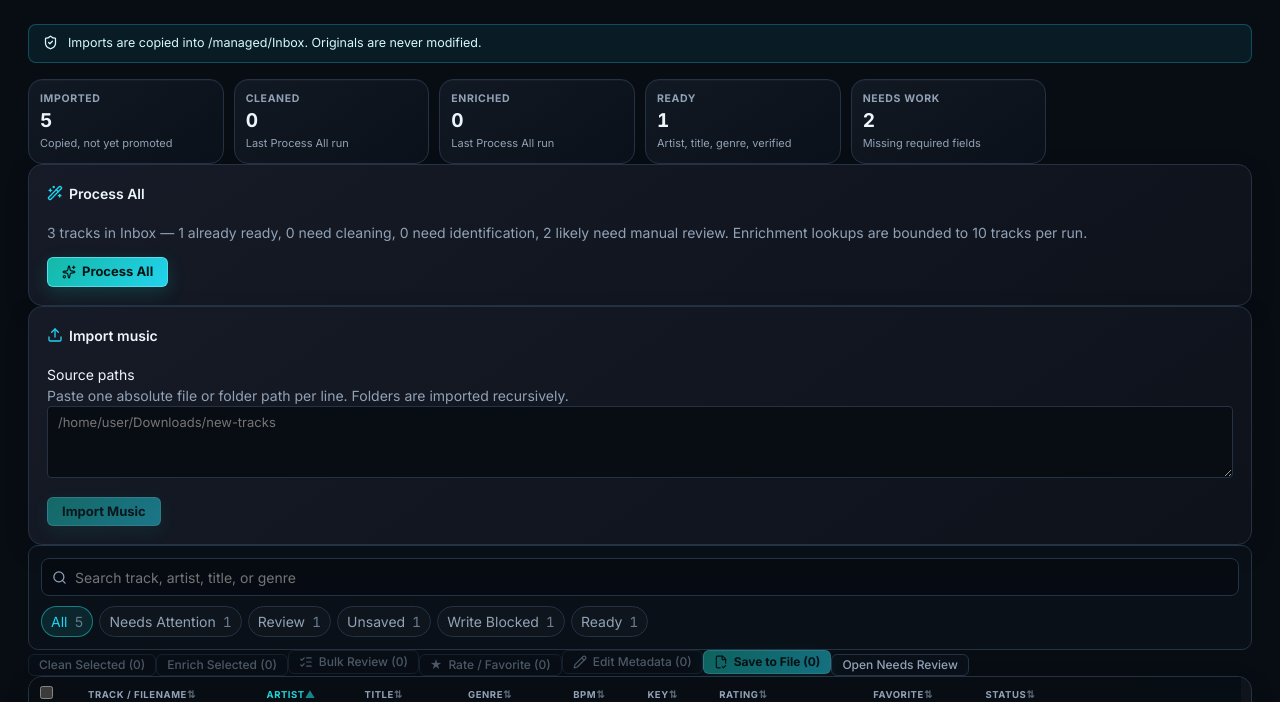
Test case: Inbox filtering, selection, and inspector › labels Select Visible semantics and clears the exact selected IDs
Click the checkbox named "Select visible page (3 tracks)" at coordinates (46, 693), box [40,686,53,699]
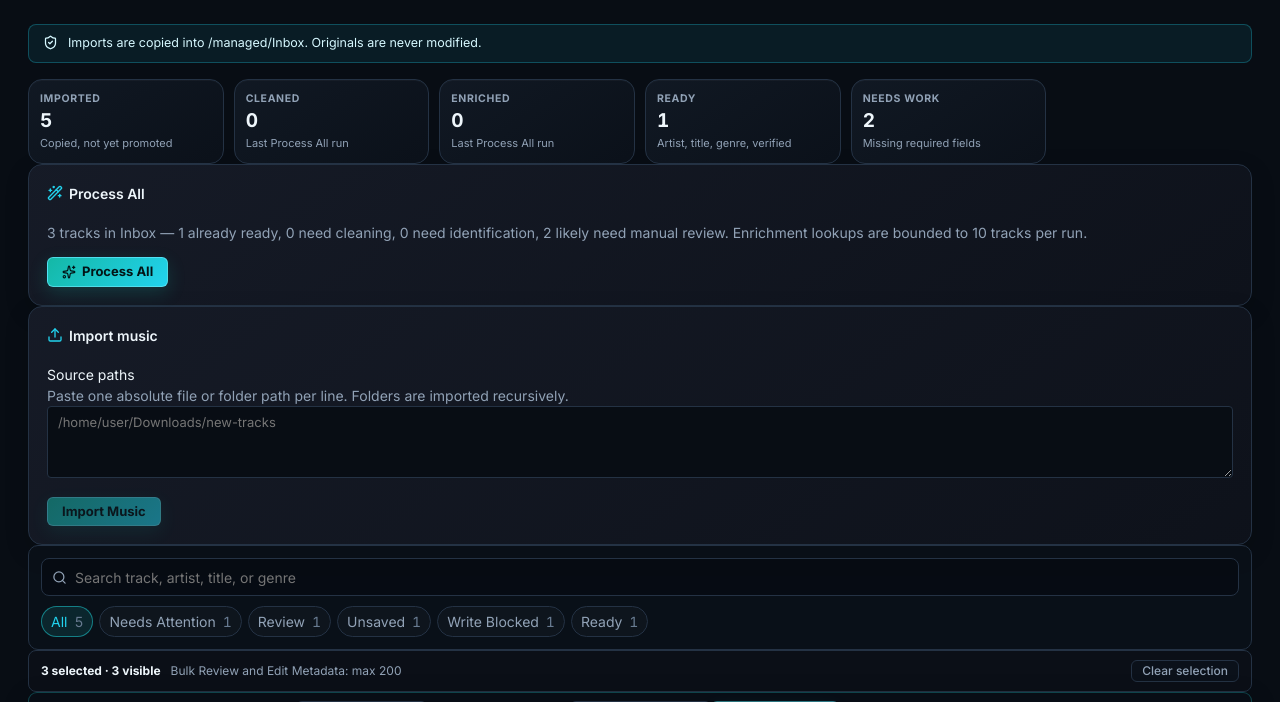
Check: the text "3 selected · 3 visible" is shown, box [41,662,161,680]
Click the button "Clear selection" at coordinates (1185, 671), box [1131,660,1239,682]
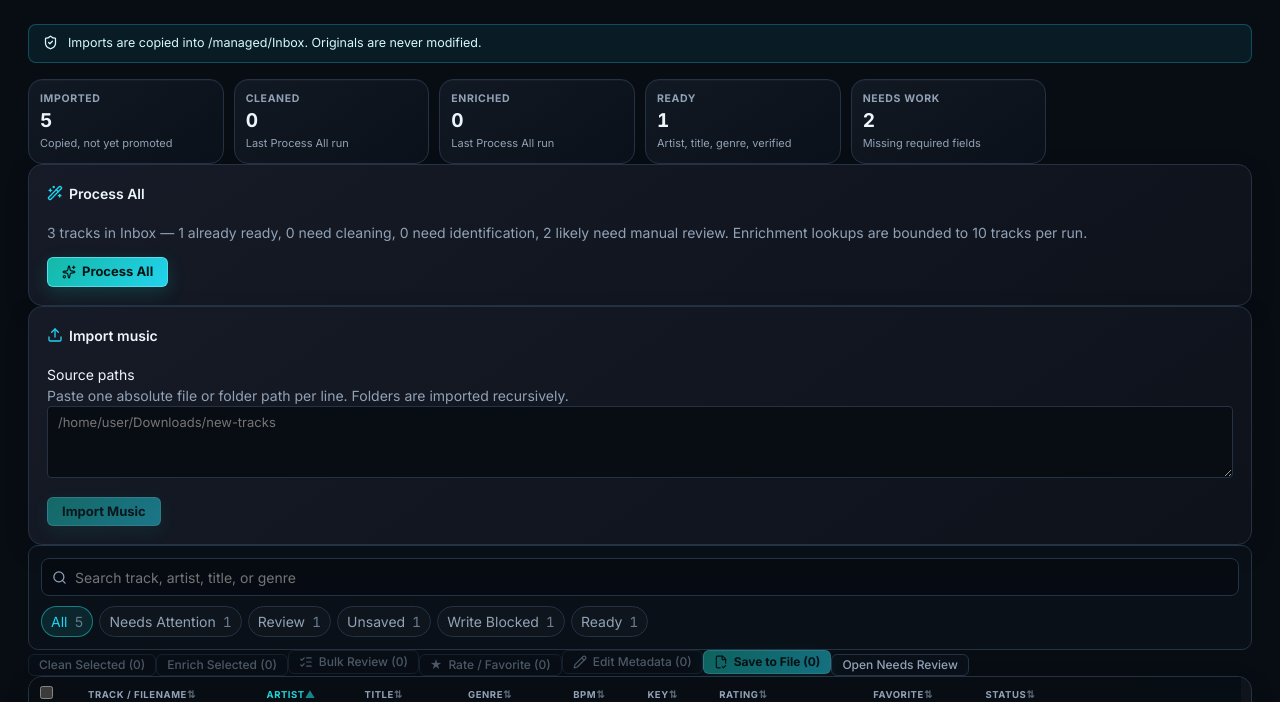
Check: the button "Clean Selected (0)" is disabled, box [28,654,156,676]
